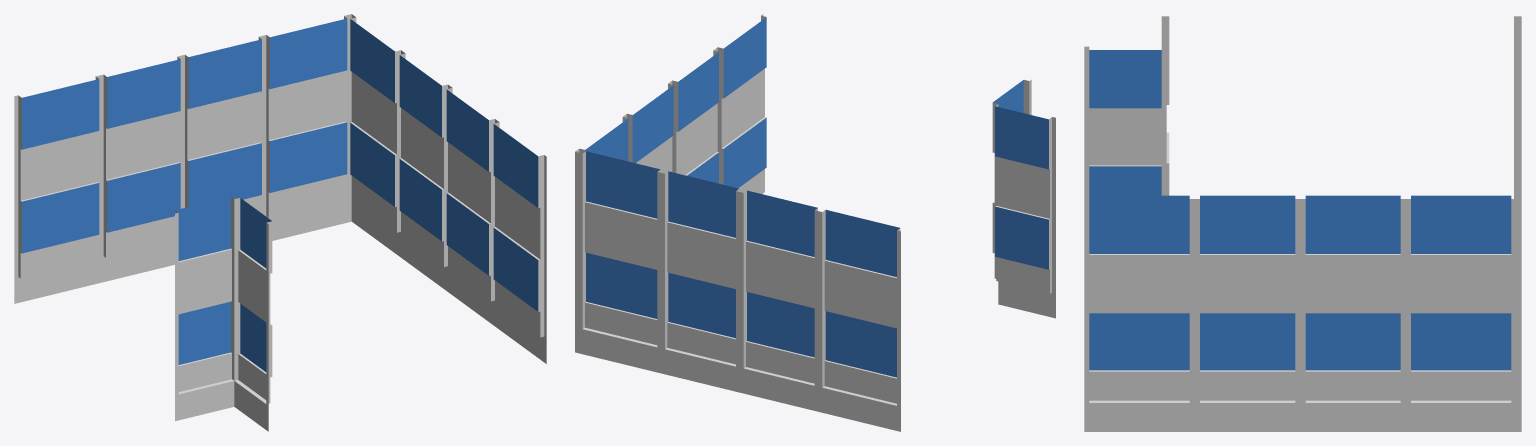
3 views of the same model, side by side, from view 1: azimuth 30°, elevation 25°; view 2: azimuth 150°, elevation 25°; view 3: azimuth 270°, elevation 25° (orthographic). The views are drawn at different scales.
Parts seen in each view (by area): view 1: 03a_Base; view 2: 03a_Base; view 3: 03a_Base.
Boxes of the visible parts, x1,y1,x2,y2 form: 03a_Base: [14, 14, 546, 431]; 03a_Base: [575, 14, 1055, 431]; 03a_Base: [1084, 16, 1521, 431].
Size of the model in its own units: 42.5 by 25 by 42.5.
